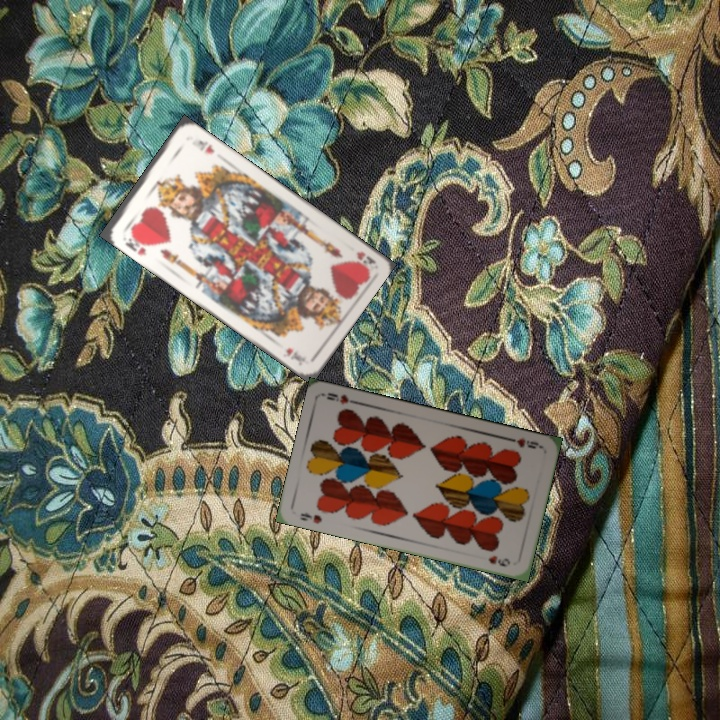H9: (504, 433, 544, 451), (296, 509, 324, 526)
HK: (121, 229, 152, 258), (353, 247, 378, 272)
